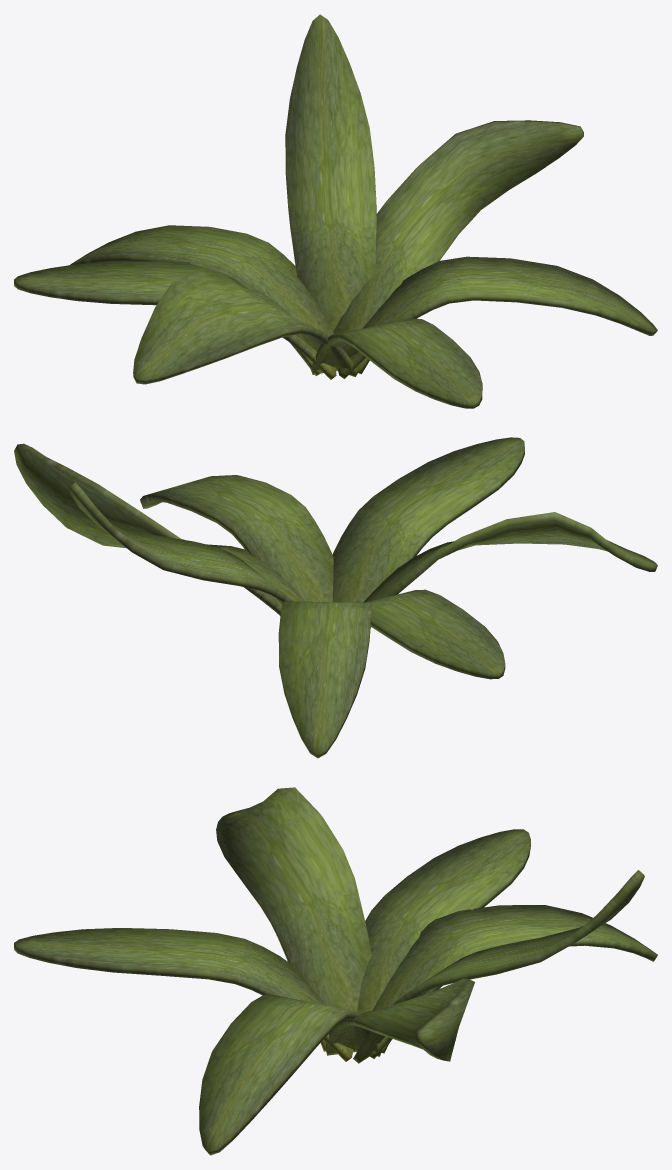
Rendered from calyx3_sb1.dae.
The picture shows the model from 3 angles, top to bottom: view 1: azimuth 30°, elevation 25°; view 2: azimuth 150°, elevation 25°; view 3: azimuth 270°, elevation 25°; orthographic projection. The views are drawn at different scales.
Parts seen in each view (by area): view 1: calyx2, calyx5, calyx4, calyx3_001, calyx3, calyx1, calyx1_001; view 2: calyx1, calyx3, calyx3_001, calyx1_001, calyx5, calyx4, calyx2; view 3: calyx4, calyx1, calyx3_001, calyx1_001, calyx3, calyx5, calyx2.
Part boxes in pixels (x1=…): calyx2: x1=285, y1=14, x2=376, y2=331; calyx5: x1=333, y1=120, x2=583, y2=374; calyx4: x1=133, y1=270, x2=358, y2=384; calyx3_001: x1=338, y1=256, x2=657, y2=378; calyx3: x1=69, y1=225, x2=333, y2=375; calyx1: x1=310, y1=318, x2=482, y2=408; calyx1_001: x1=14, y1=261, x2=336, y2=379; calyx1: x1=332, y1=437, x2=524, y2=602; calyx3: x1=278, y1=601, x2=371, y2=758; calyx3_001: x1=140, y1=475, x2=333, y2=602; calyx1_001: x1=365, y1=589, x2=505, y2=679; calyx5: x1=14, y1=443, x2=304, y2=615; calyx4: x1=363, y1=512, x2=657, y2=602; calyx2: x1=68, y1=482, x2=292, y2=604; calyx4: x1=216, y1=787, x2=371, y2=1051; calyx1: x1=14, y1=928, x2=353, y2=1061; calyx3_001: x1=199, y1=994, x2=381, y2=1155; calyx1_001: x1=357, y1=829, x2=530, y2=1053; calyx3: x1=369, y1=905, x2=657, y2=1058; calyx5: x1=325, y1=978, x2=474, y2=1061; calyx2: x1=353, y1=870, x2=644, y2=1063.
Size of the model in its own units: 0.0858 by 0.0838 by 0.0345.
Materials: 7 (7 with a texture image).
